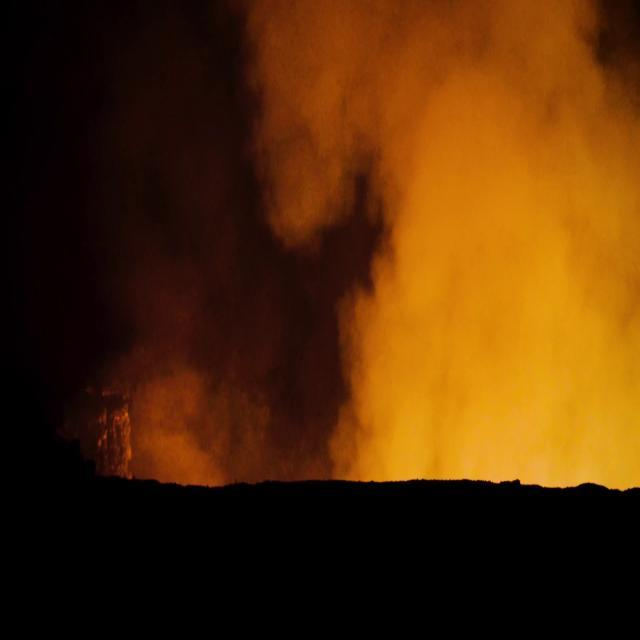Smoke: (256, 1, 640, 468), (88, 139, 269, 479)
